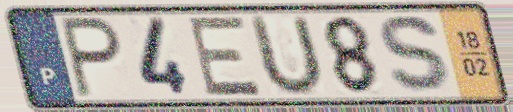4: (135, 13, 197, 101)
8: (321, 13, 382, 98)
E: (186, 14, 266, 99)
P: (58, 14, 126, 101)
S: (376, 12, 460, 97)
U: (249, 13, 327, 100)
